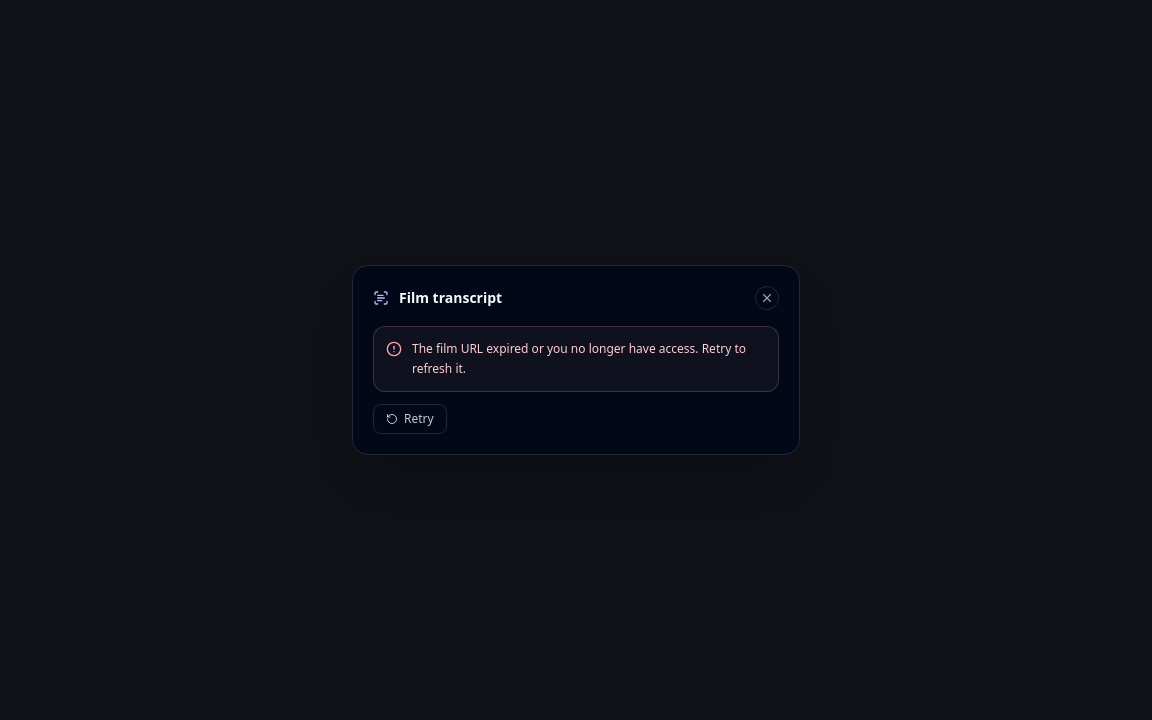
Test: NarrationReviewPanel film transcription › shows an expired URL error and Retry starts a fresh transcription
Expected: the text "film URL expired" is shown, [412, 340, 746, 377]
What coordinates should you click on to do the following:
click the button "Retry"
I would click on:
 (410, 419)
Its box is [373, 404, 447, 434].
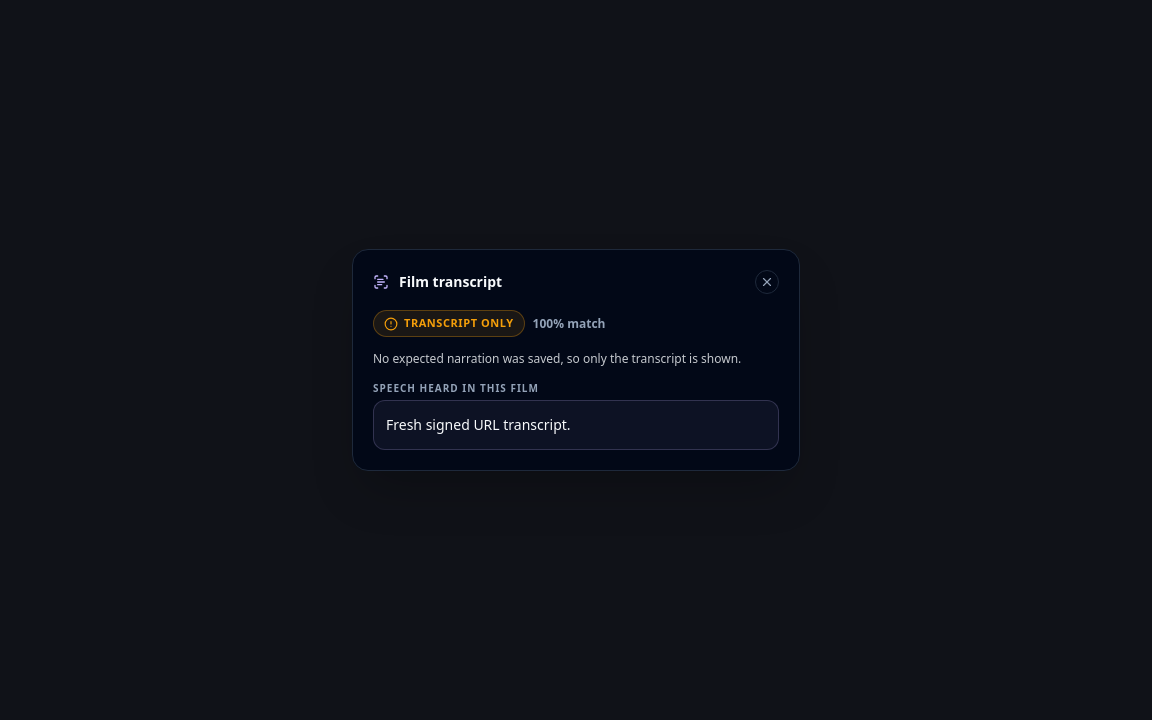
Expected: the text "Fresh signed URL transcript." is shown, [373, 400, 779, 450]
